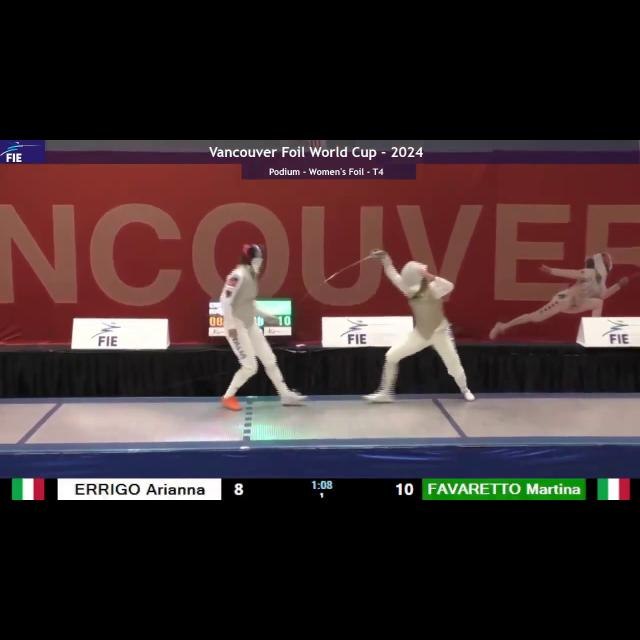blade: (292, 248, 384, 312)
